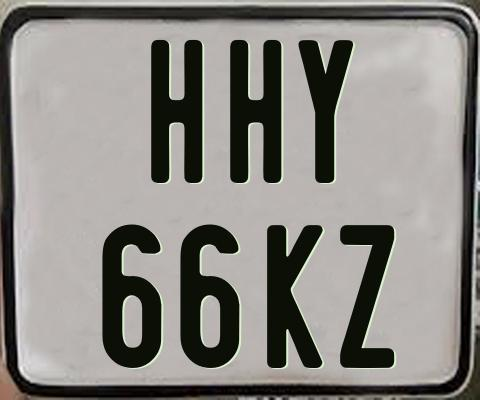6: (178, 224, 241, 372), (101, 222, 160, 369)
H: (228, 40, 285, 186), (150, 40, 204, 189)
K: (267, 224, 329, 370)
Y: (298, 38, 355, 185)
Z: (338, 224, 395, 370)
